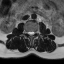CCS_normal: (30, 29, 32, 38)
LFS_normal: (34, 30, 36, 35)
LLS_normal: (32, 30, 34, 36)
RFS_normal: (26, 29, 28, 35)
RLS_normal: (28, 29, 30, 36)
